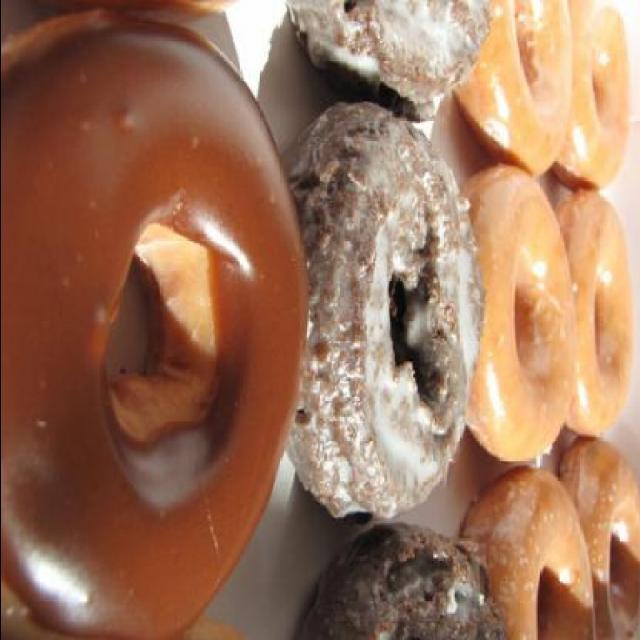Donuts: (1, 1, 634, 638)
